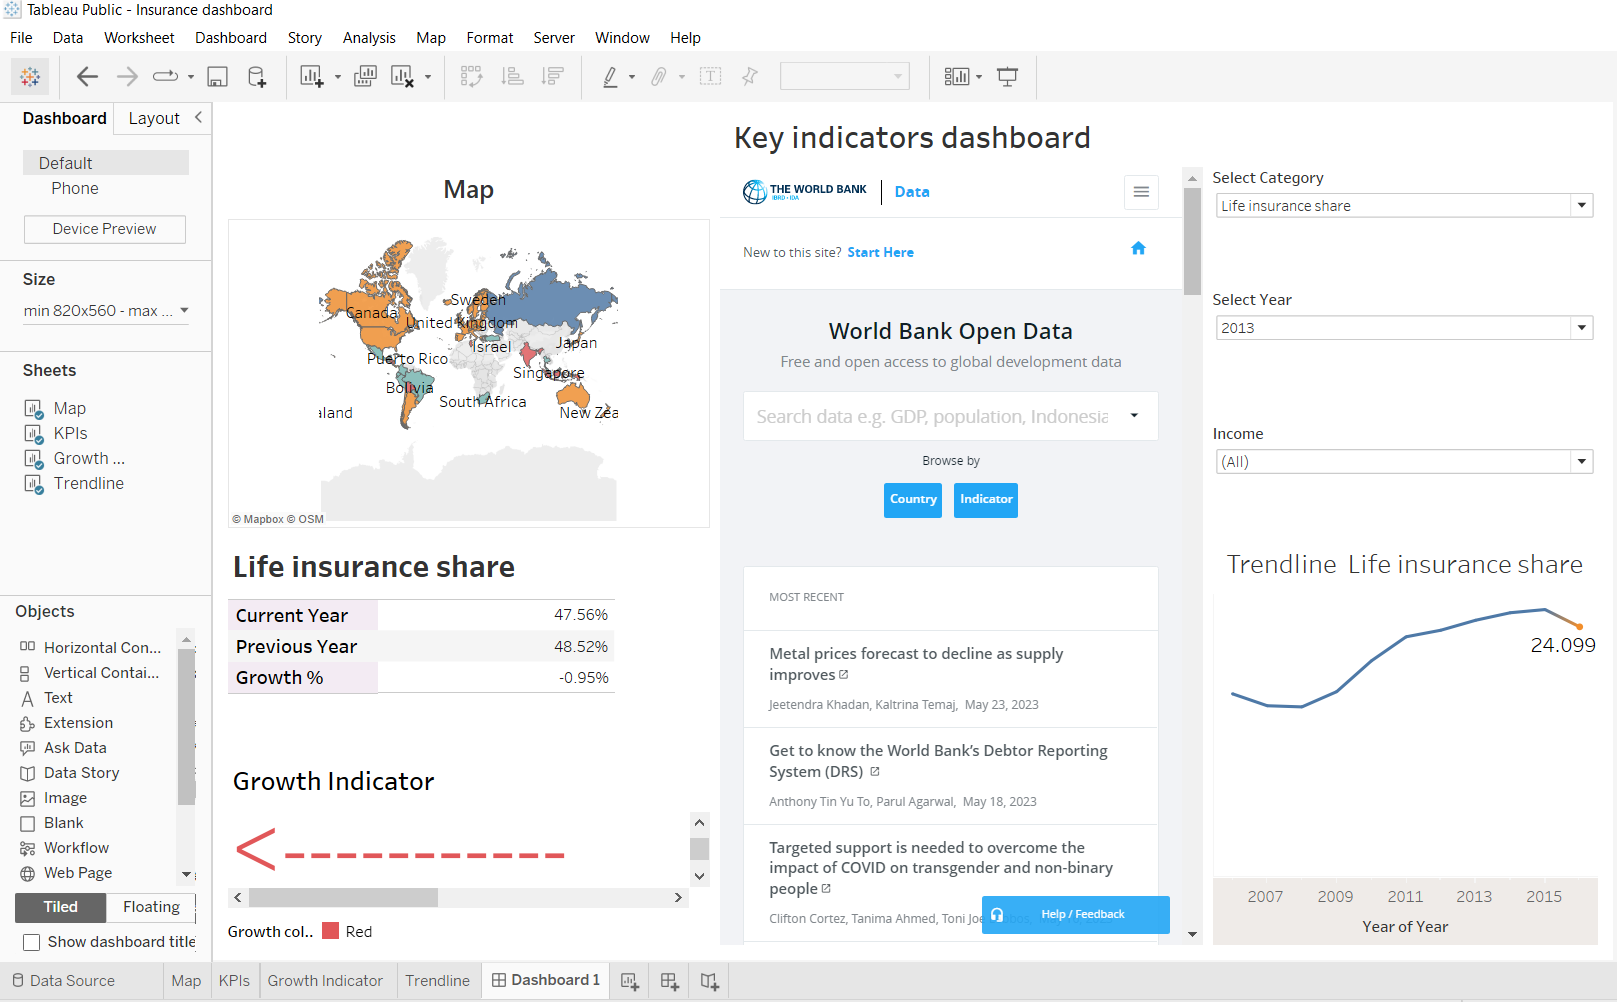

Layout of this report page (visuals, bound fields, positions):
{"tool":"tableau","page":{"name":"Dashboard 1","canvas":[1000,1000],"units":"permille","ordinal":0},"visuals":[{"type":"title","box":[7.1,11.6,985.7,59.6]},{"type":"worksheet","title":"Map","mark":"Multipolygon","box":[7.1,71.2,351.8,432.6]},{"type":"web page","param":"https://data.worldbank.org/country/Israel?view=chart","box":[358.9,71.2,351.8,917.1]},{"type":"parameter","param":"[Parameters].[Parameter 1]","box":[710.7,71.2,282.1,142.4]},{"type":"parameter","param":"[Parameters].[Parameter 2]","box":[710.7,213.7,282.1,155.5]},{"type":"filter","title":"Map","param":"[federated.0mxd5xx0bpyf5j1410su418ebysx].[none:income:nk]","box":[710.7,369.2,282.1,136.6]},{"type":"worksheet","title":"KPIs","mark":"Automatic","box":[7.1,503.9,351.8,255.2]},{"type":"worksheet","title":"Trendline","mark":"Automatic","rows":["Calculation_1241586155235414016"],"cols":["Year"],"box":[710.7,505.8,282.1,482.5]},{"type":"worksheet","title":"Growth Indicator","mark":"Automatic","box":[7.1,759.1,351.8,185.6]},{"type":"legend","title":"Growth Indicator","param":"[federated.0z53o0k0rph98p1072uhu1emcvo6].[usr:Calculation_1241586155249950728:nk","box":[7.1,944.7,351.8,43.7]}]}

Visuals, with their boxes on the dashboard's canvas, which has no fixed pixel size, in thousandths of its width and height (x1, y1, x2, y2). These are canvas units, not pixel positions in the 1617x1002 screenshot, which may show the page scaled, cropped or inside an application window:
title: [7,12,993,71]
"Map" worksheet (Multipolygon marks): [7,71,359,504]
web page: [359,71,711,988]
parameter: [711,71,993,214]
parameter: [711,214,993,369]
"Map" filter: [711,369,993,506]
"KPIs" worksheet: [7,504,359,759]
"Trendline" worksheet: [711,506,993,988]
"Growth Indicator" worksheet: [7,759,359,945]
"Growth Indicator" legend: [7,945,359,988]
